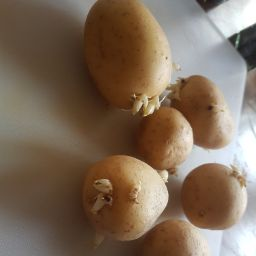Russet potato: (60, 1, 256, 256), (72, 1, 179, 116), (73, 149, 176, 238), (174, 63, 241, 160), (175, 158, 256, 233), (146, 101, 196, 179), (143, 217, 226, 256)
